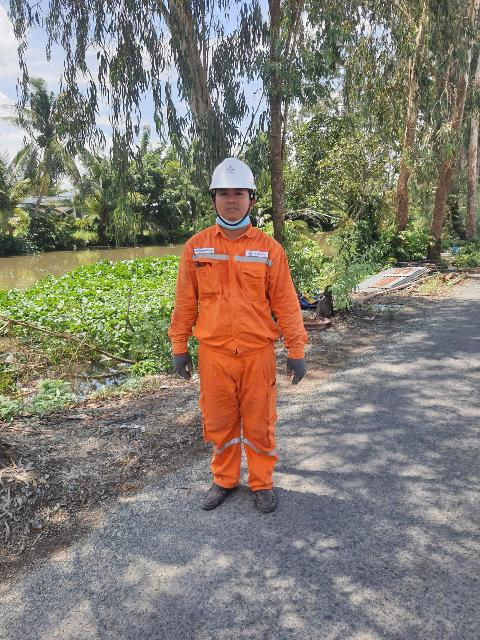gloves: (278, 352, 315, 383), (167, 347, 194, 382)
helmet: (201, 154, 263, 197)
shoes: (251, 483, 283, 515), (197, 484, 233, 512)
